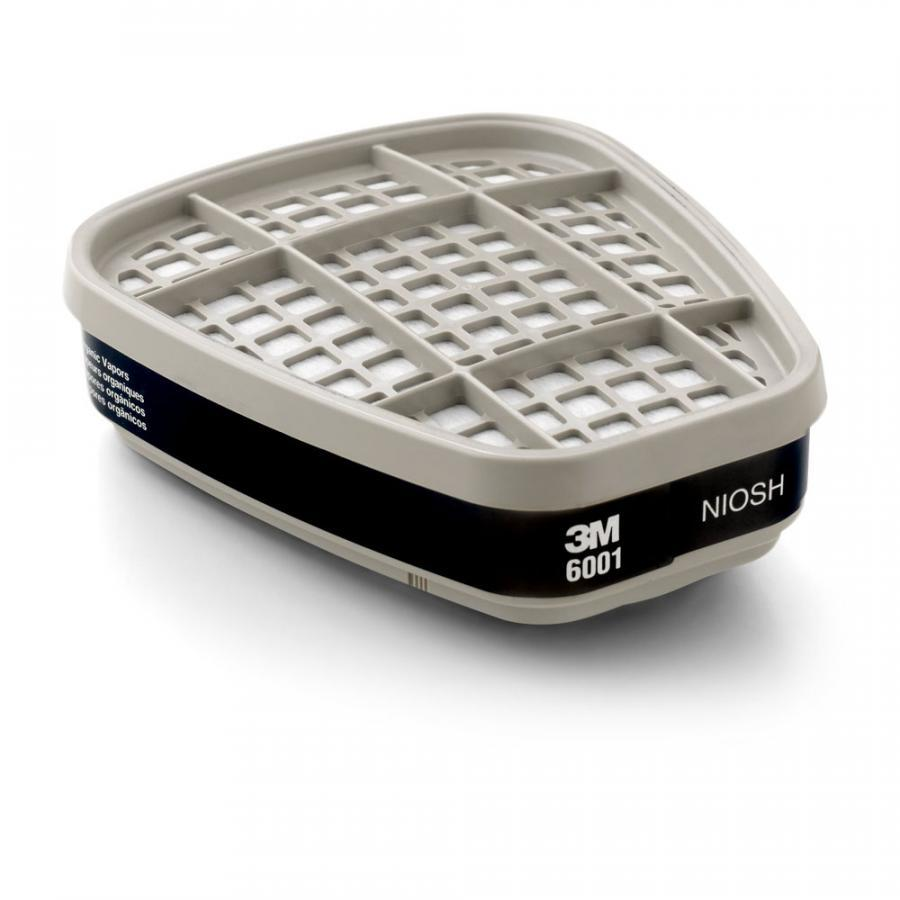3M: (562, 513, 629, 555)
